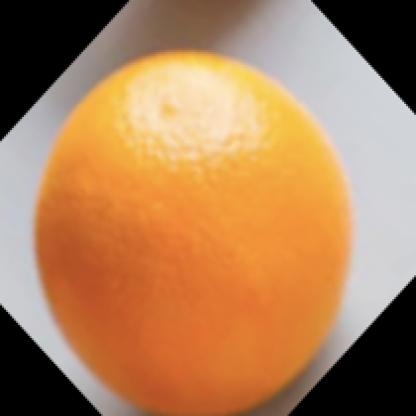fresh: (36, 50, 352, 416)
